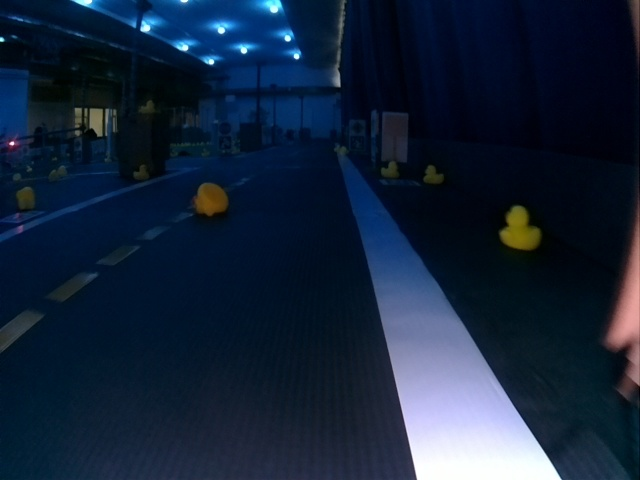Duckie: (498, 204, 540, 250), (192, 182, 229, 216), (17, 187, 35, 210), (423, 165, 444, 184), (381, 161, 399, 178), (133, 164, 150, 181), (140, 100, 156, 112), (48, 170, 58, 182), (58, 165, 68, 176)
QR code: (1, 211, 44, 223), (378, 178, 420, 187), (349, 135, 364, 150)
